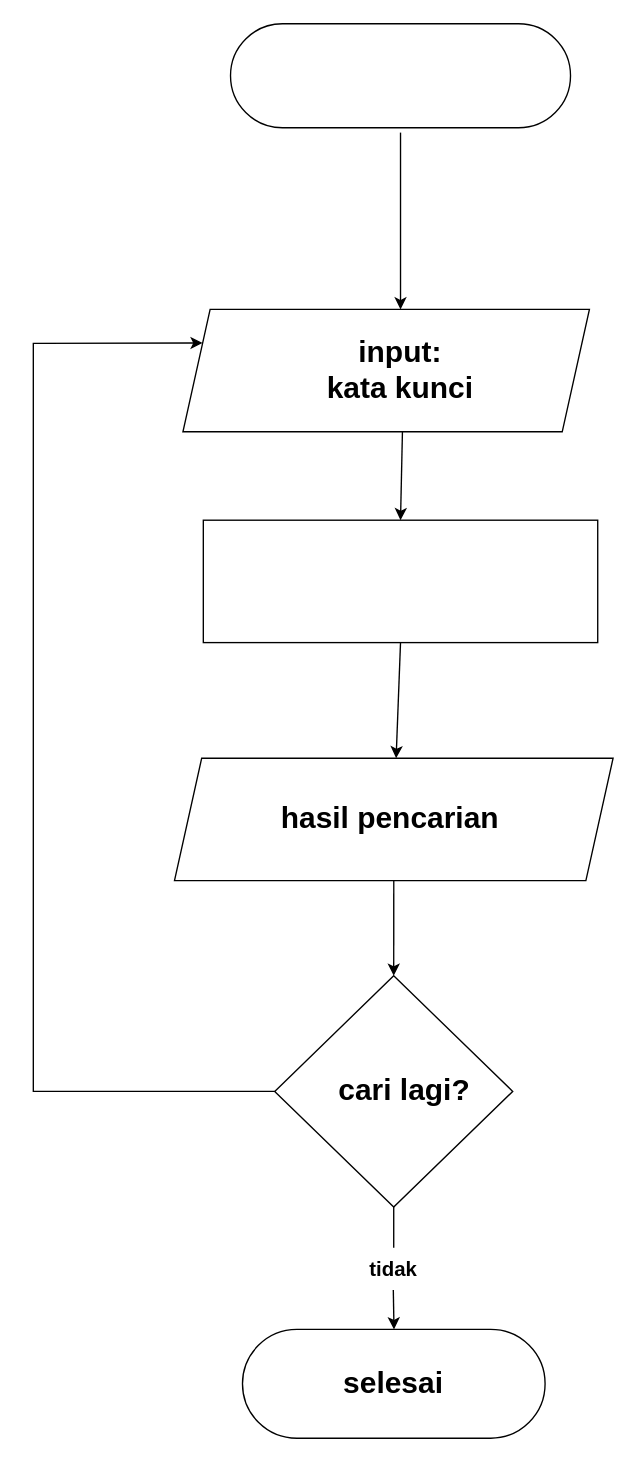
Some shapes in this 638 by 1462 pixel diagram are drawn without their labels. The box of each missing label's shape, as (x1, y1, x2, y2) in pixels:
mulai: (229, 22, 571, 128)
search by: kata kunci: (202, 519, 598, 643)
